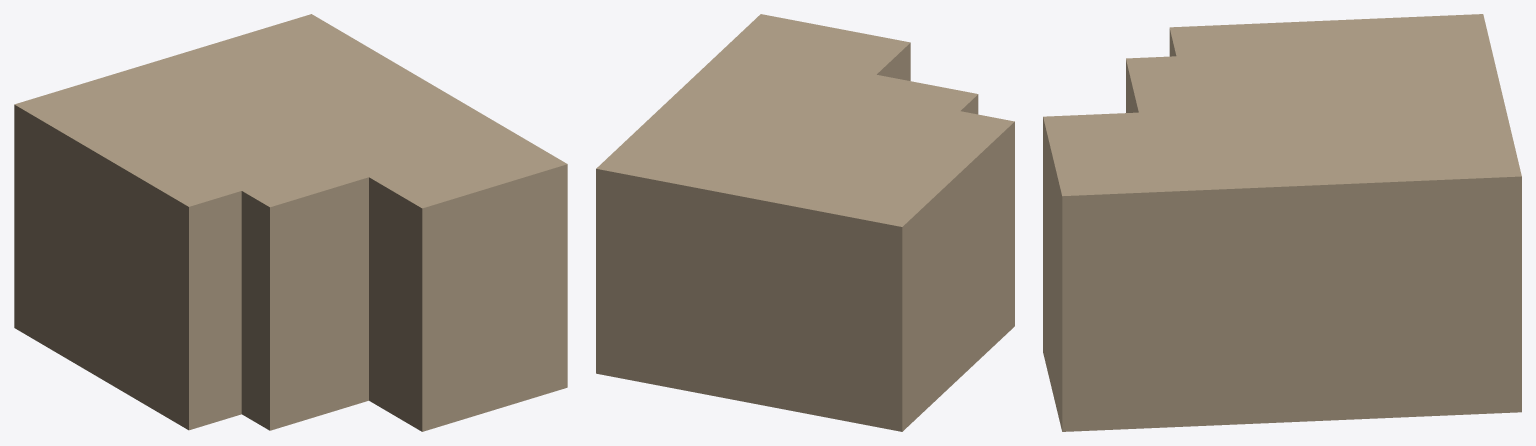
The model's file is bld_109053861.dae.
3 renders of one model, left to right at view 1: azimuth 30°, elevation 25°; view 2: azimuth 150°, elevation 25°; view 3: azimuth 270°, elevation 25°, orthographic. The views are drawn at different scales.
Visible parts, largest first — view 1: bld_109053861; view 2: bld_109053861; view 3: bld_109053861.
Boxes of the visible parts, x1,y1,x2,y2 form: bld_109053861: (14,14,567,431); bld_109053861: (596,14,1014,431); bld_109053861: (1043,14,1521,431).
Size of the model in its own units: 13.26 by 14.73 by 8.
